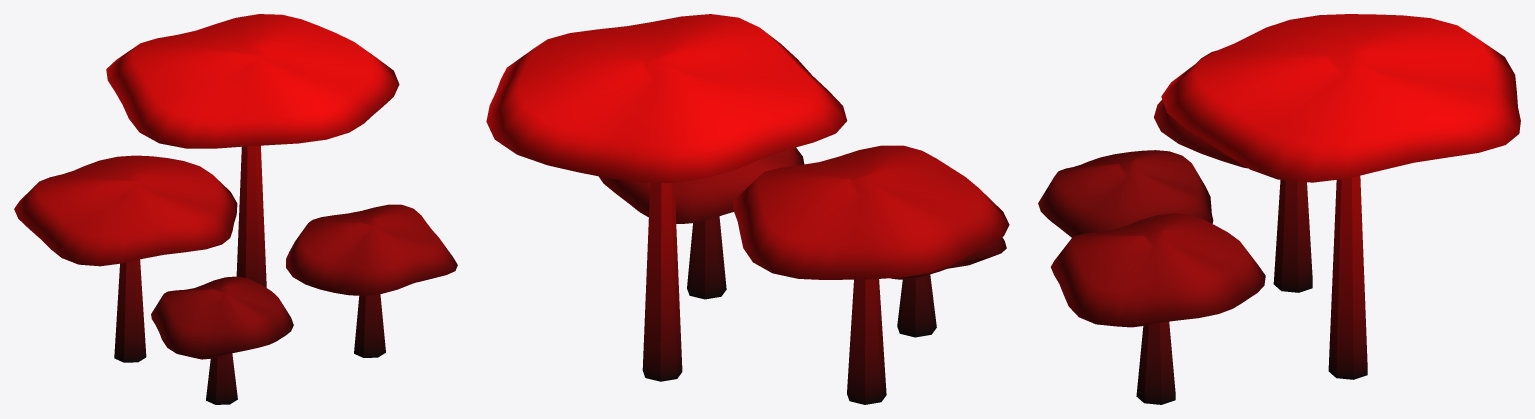
Rendered from SM_Alien06_DiscFungus.fbx.
The picture shows the model from 3 angles, left to right: view 1: azimuth 30°, elevation 25°; view 2: azimuth 150°, elevation 25°; view 3: azimuth 270°, elevation 25°; orthographic projection. The views are drawn at different scales.
Parts seen in each view (by area): view 1: SM_Alien06_DiscFungus; view 2: SM_Alien06_DiscFungus; view 3: SM_Alien06_DiscFungus.
Boxes of the visible parts, x1=… form: SM_Alien06_DiscFungus: x1=14, y1=14, x2=457, y2=404; SM_Alien06_DiscFungus: x1=486, y1=14, x2=1009, y2=404; SM_Alien06_DiscFungus: x1=1038, y1=14, x2=1520, y2=404.
Bounding box in the file's own units: 114 × 106 × 75.8.
